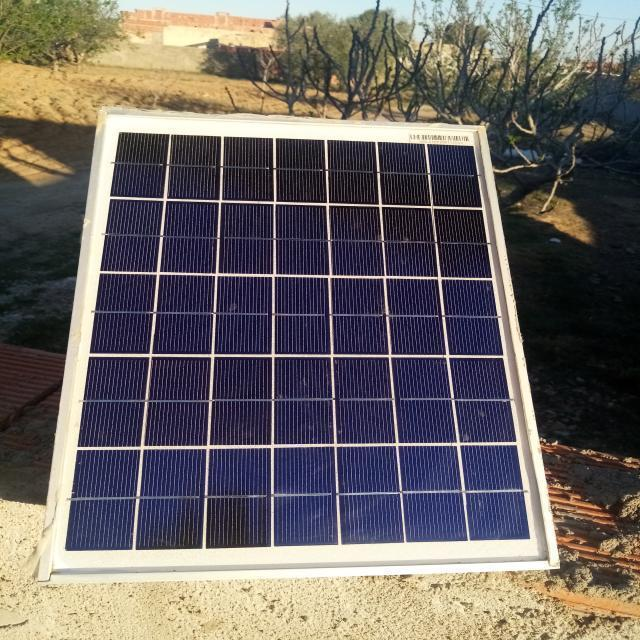Normal Solar Panel: (45, 109, 560, 578)
